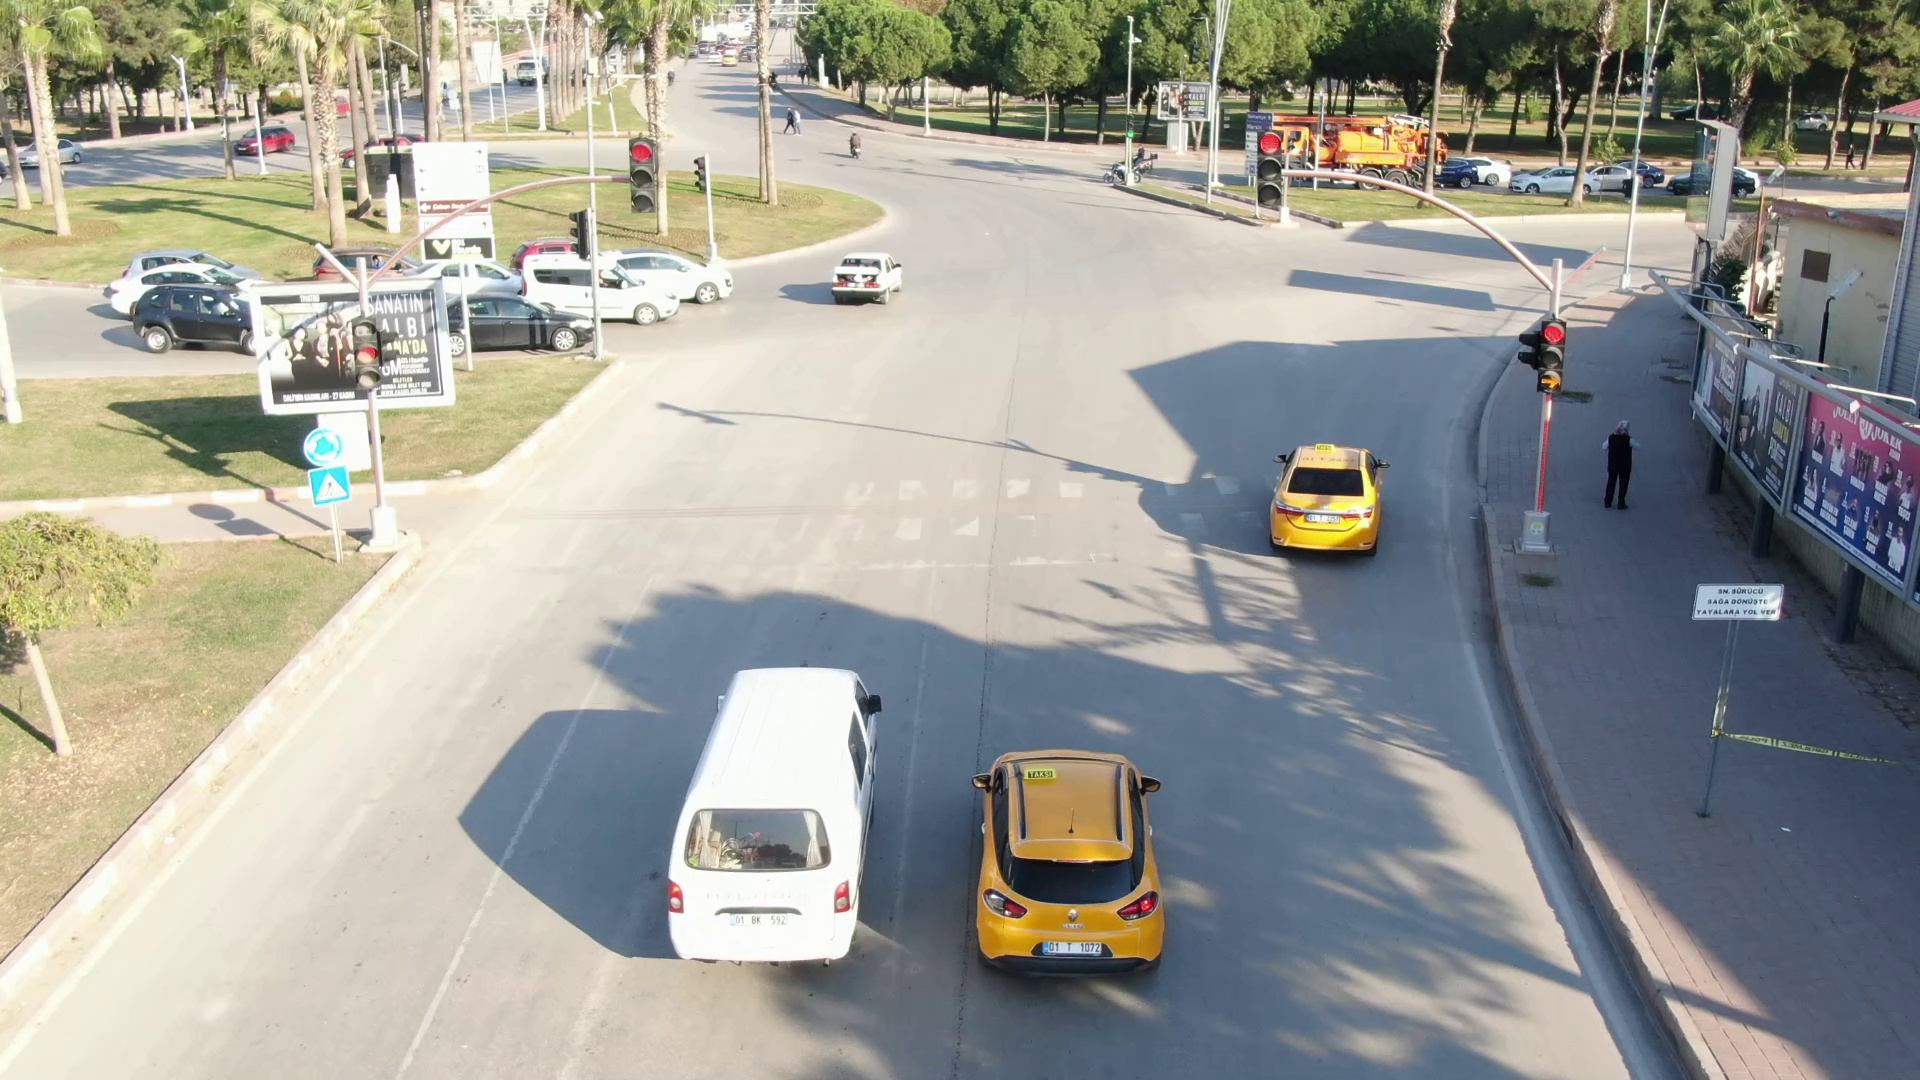car: (647, 649, 912, 970), (949, 723, 1186, 976), (1251, 425, 1392, 576), (512, 251, 684, 321), (588, 237, 737, 310), (439, 290, 592, 353), (829, 251, 908, 312)
person: (1592, 419, 1645, 523), (831, 123, 861, 159)
